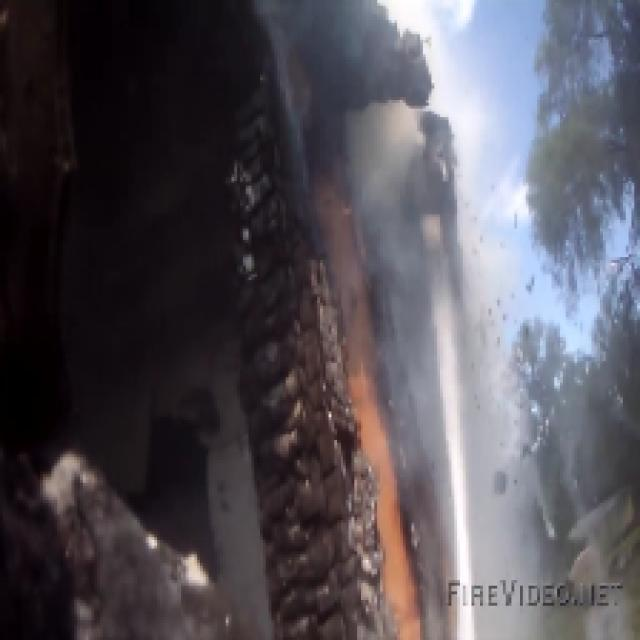Smoke: (237, 0, 497, 640)
